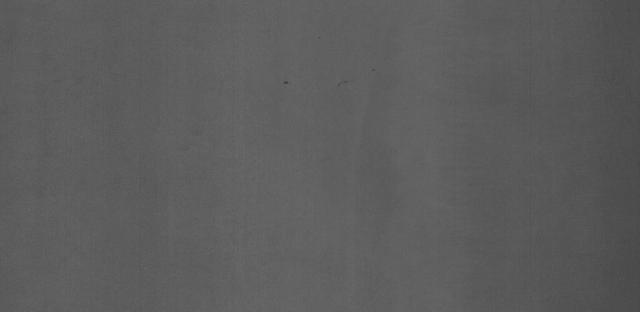inclusion: (335, 70, 352, 88), (276, 70, 292, 89)
